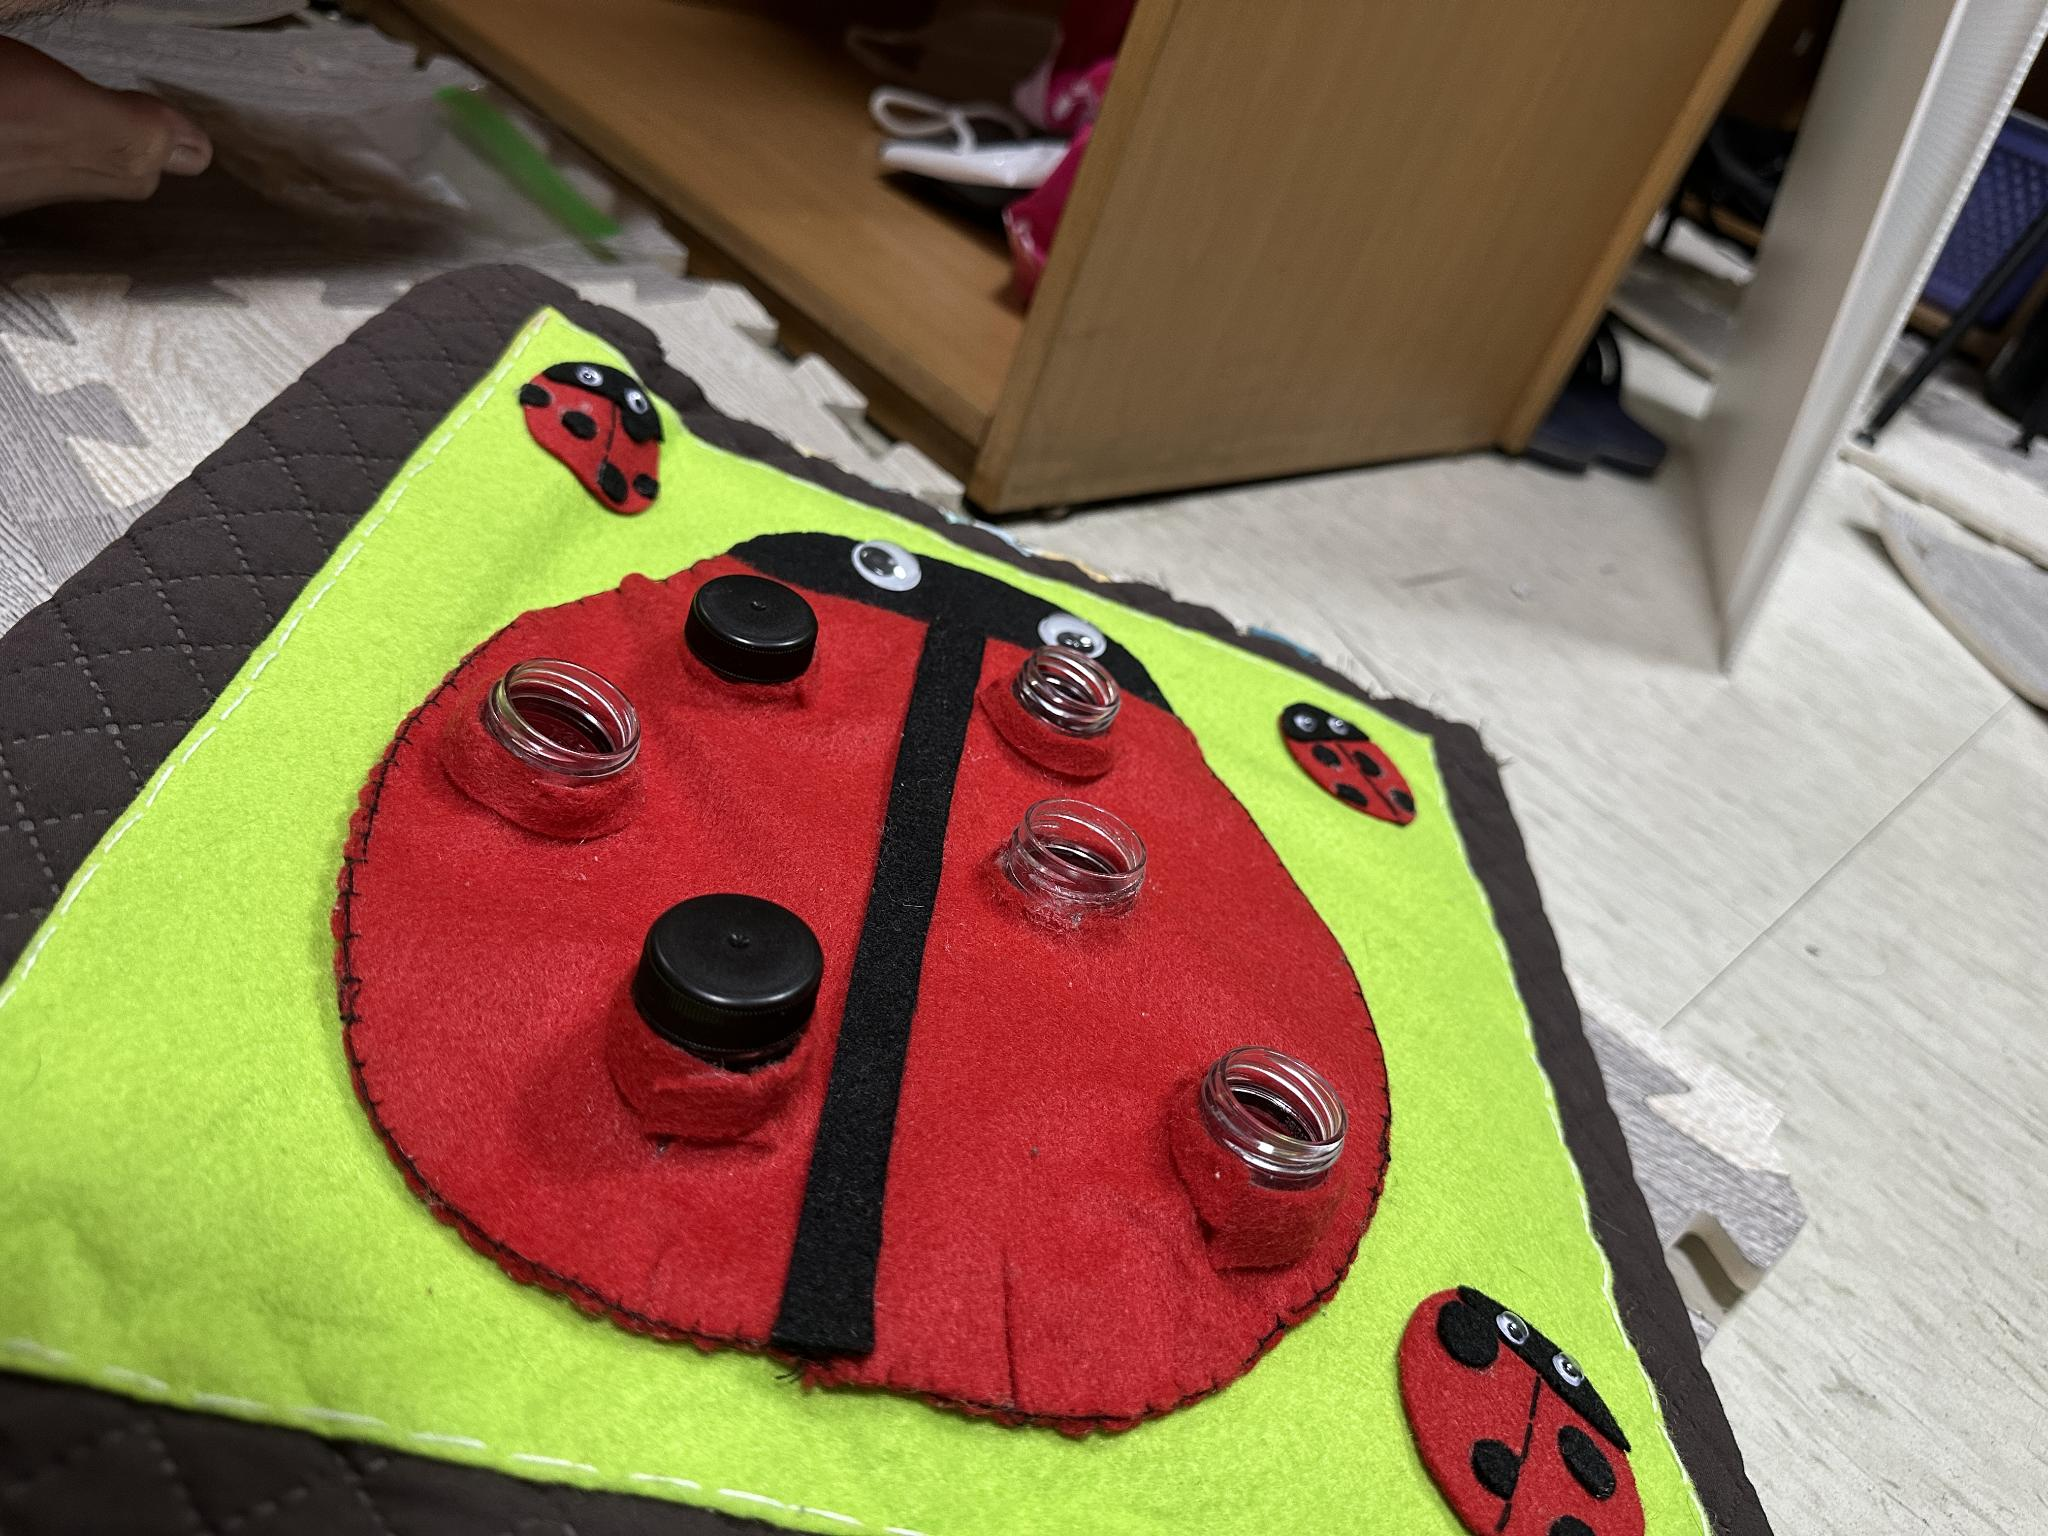cap_ok: (610, 879, 850, 1147), (668, 552, 839, 716)
